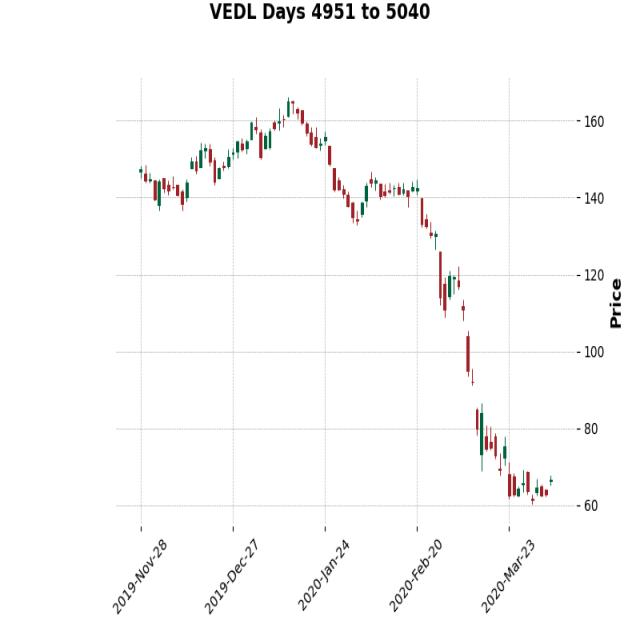Head and Shoulder: (176, 72, 395, 246)
